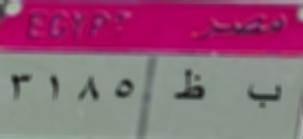1: (46, 70, 65, 102)
3: (8, 70, 35, 106)
5: (113, 78, 137, 104)
8: (75, 70, 101, 108)
Thaa: (172, 64, 209, 106)
baa: (246, 79, 286, 114)
